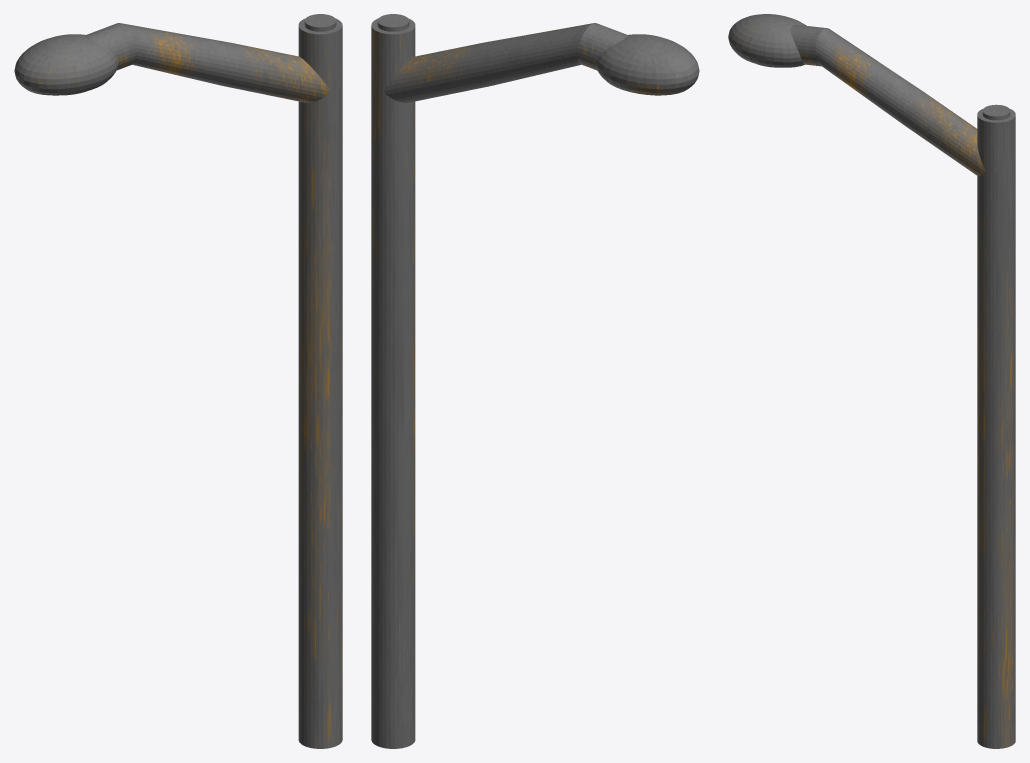
Rendered from lampPost.fbx.
The picture shows the model from 3 angles, left to right: view 1: azimuth 30°, elevation 25°; view 2: azimuth 150°, elevation 25°; view 3: azimuth 330°, elevation 25°; orthographic projection. The views are drawn at different scales.
Visible parts, largest first — view 1: Cylinder; view 2: Cylinder; view 3: Cylinder.
Boxes of the visible parts, <box> form: Cylinder: <box>14,14,342,748</box>; Cylinder: <box>371,14,699,748</box>; Cylinder: <box>728,14,1015,748</box>.
Bounding box in the file's own units: 640 × 1453 × 139.
1 material, 1 textured.
